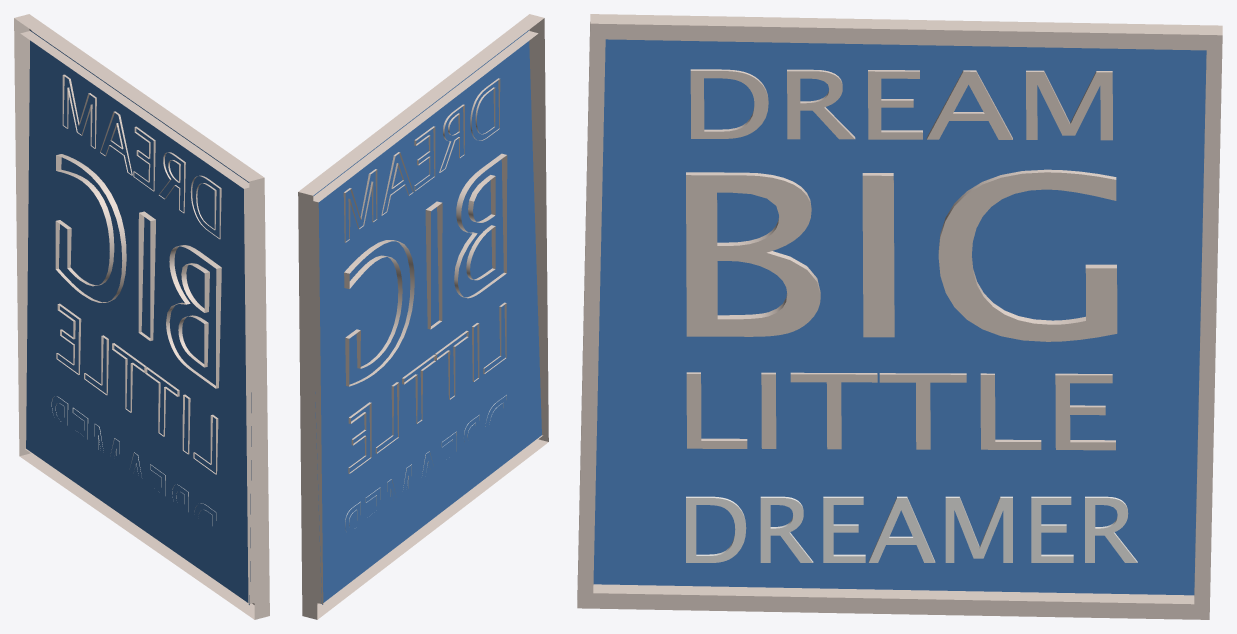
Rendered from Childroom2_Picture2.fbx.
3 views of the same model, side by side, from view 1: azimuth 30°, elevation 25°; view 2: azimuth 150°, elevation 25°; view 3: azimuth 270°, elevation 25° (orthographic). The views are drawn at different scales.
Parts seen in each view (by area): view 1: Childroom2_Picture2; view 2: Childroom2_Picture2; view 3: Childroom2_Picture2.
Part boxes in pixels (x1,y1,x2,y2): Childroom2_Picture2: [14, 14, 269, 619]; Childroom2_Picture2: [298, 14, 548, 619]; Childroom2_Picture2: [577, 14, 1222, 619].
Bounding box in the file's own units: 3.08 × 82.52 × 80.95.
